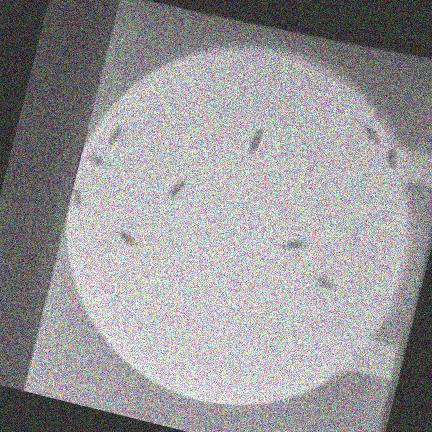fly: (114, 228, 138, 246), (165, 178, 185, 198), (362, 124, 381, 145), (248, 127, 262, 152), (314, 274, 335, 289), (279, 238, 306, 249), (107, 126, 121, 145), (86, 153, 106, 166), (385, 147, 396, 168), (71, 187, 81, 207)
